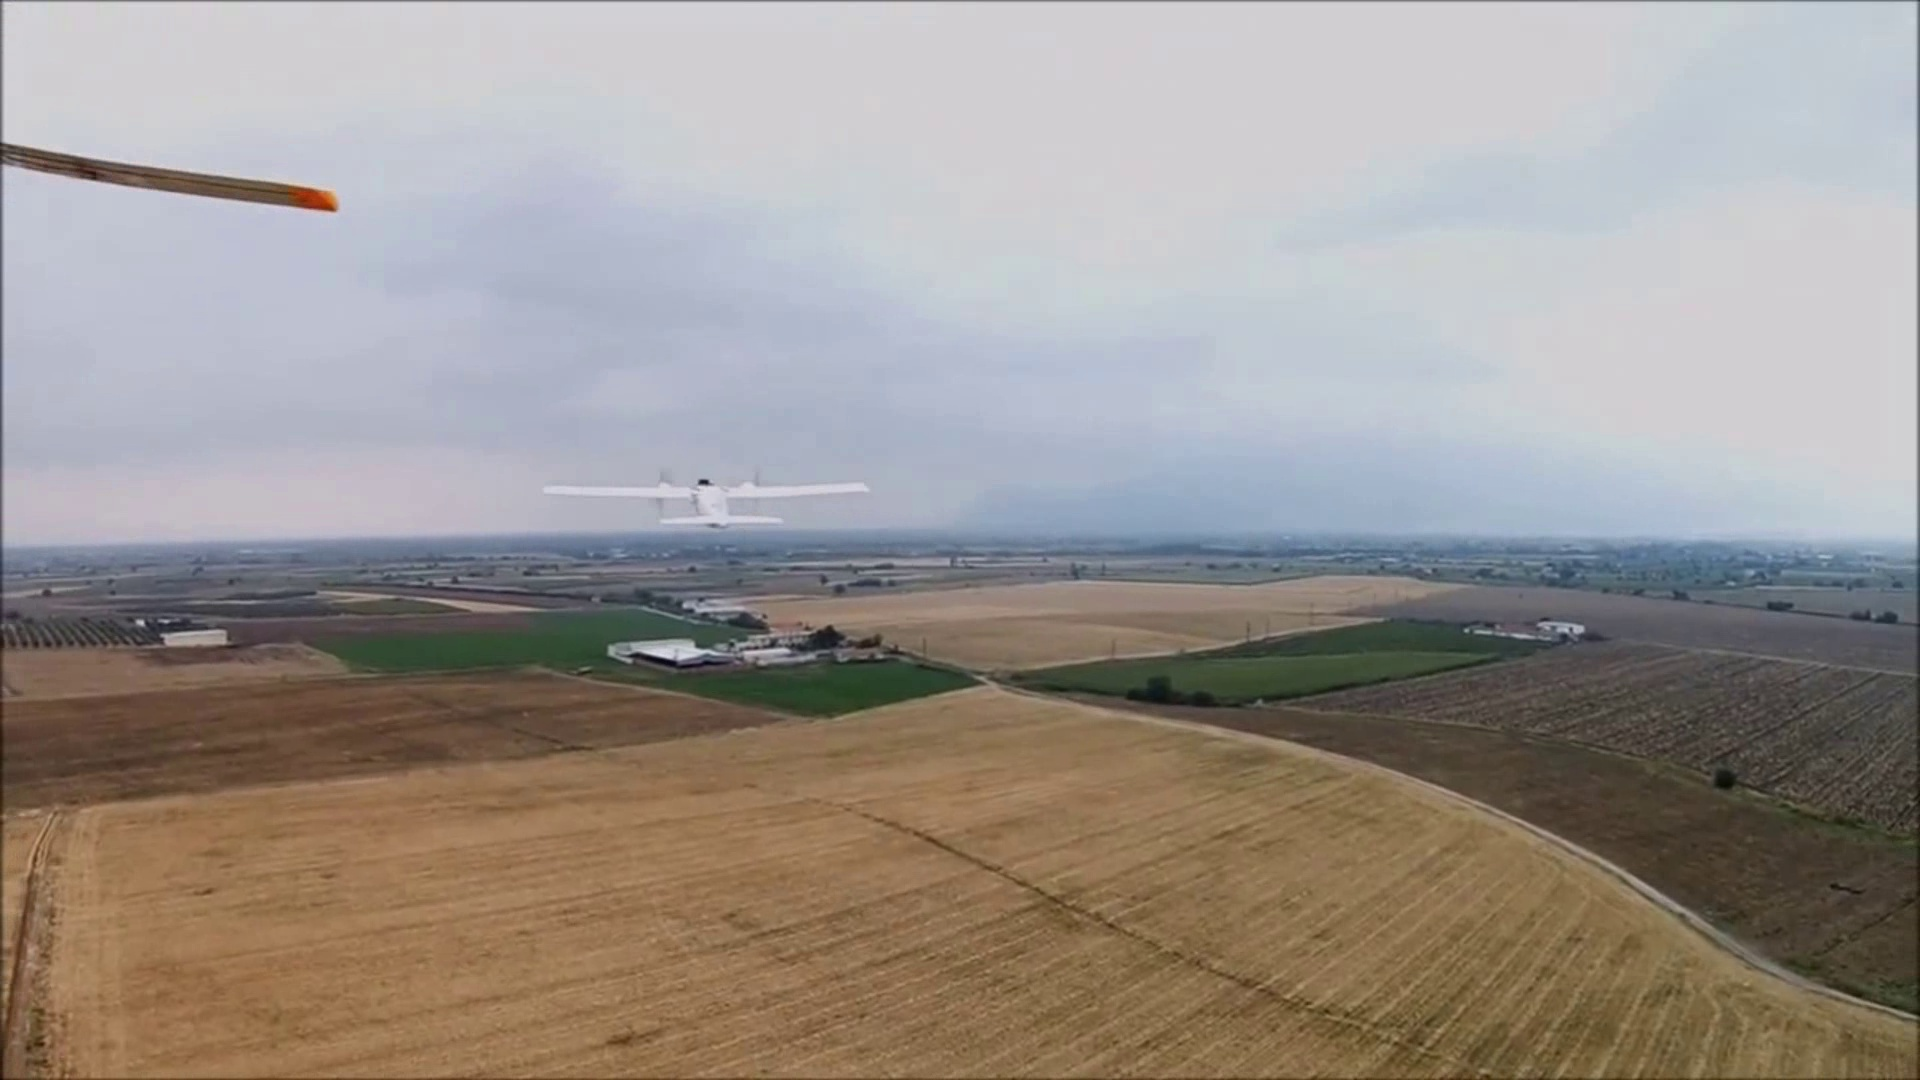airplane: (541, 467, 870, 525)
